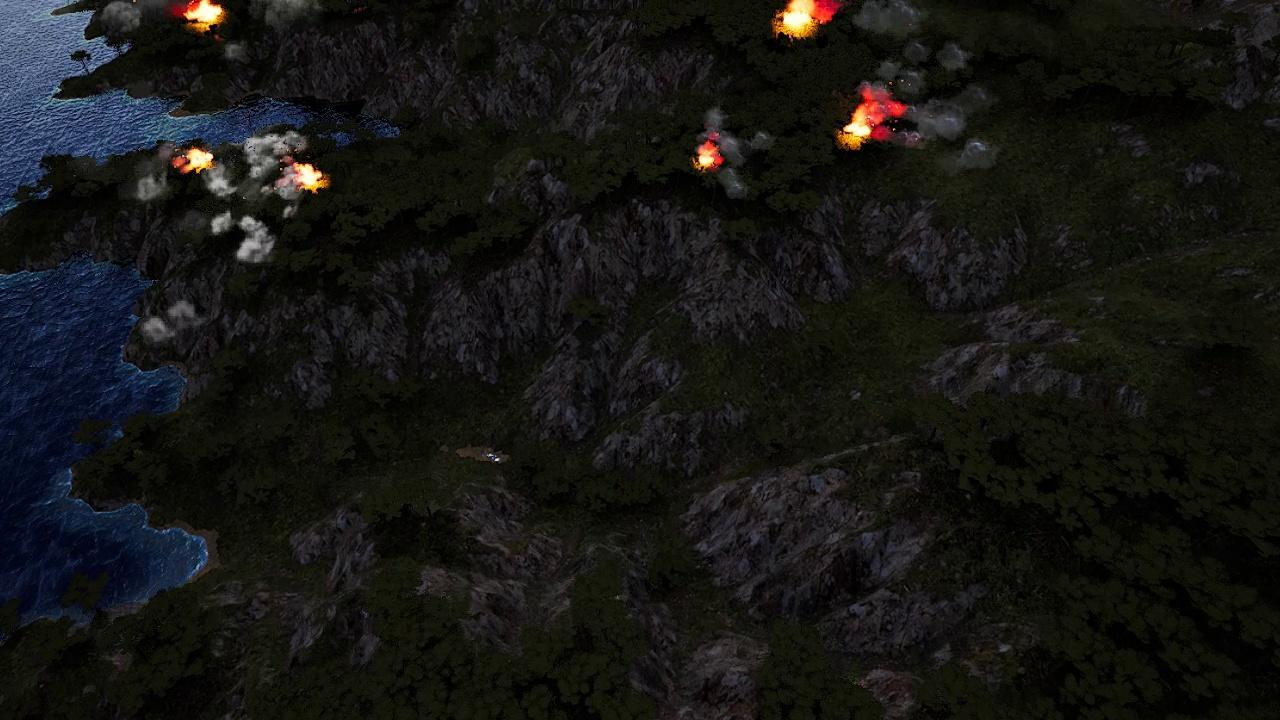fire: (841, 92, 905, 145), (777, 0, 825, 35), (183, 0, 226, 27), (293, 163, 325, 192), (178, 149, 215, 174), (694, 142, 722, 170)
smoke: (843, 2, 1002, 177), (208, 126, 311, 267), (704, 102, 773, 199), (123, 140, 184, 207), (137, 295, 202, 345), (245, 0, 333, 30), (96, 0, 147, 34)
